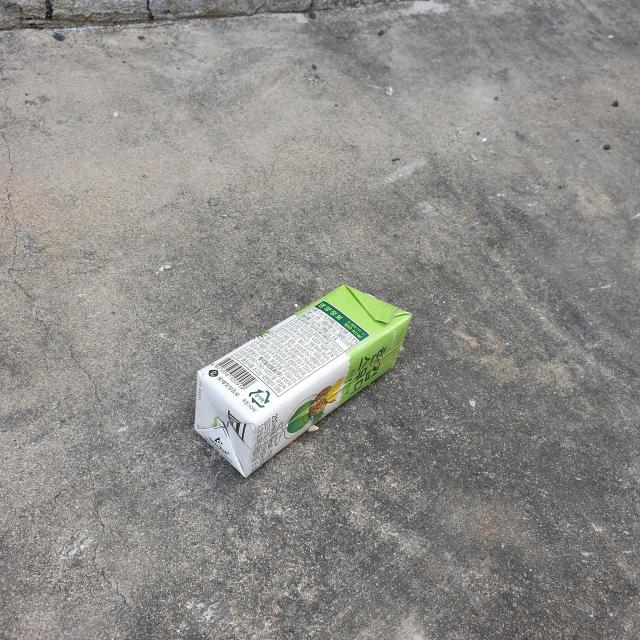paperpack: (195, 286, 412, 477)
